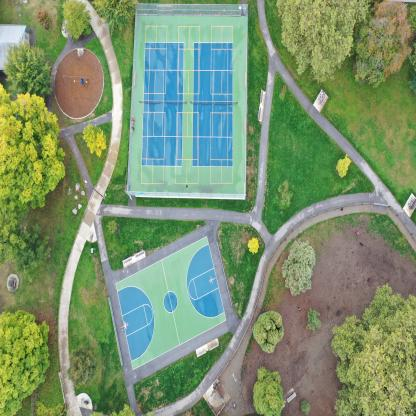Coniferous Tree: (352, 0, 412, 90), (5, 43, 53, 103), (7, 226, 52, 271), (283, 240, 314, 296), (65, 346, 100, 389), (94, 0, 137, 34), (252, 310, 284, 355), (60, 0, 95, 36), (35, 7, 50, 29), (306, 308, 320, 330), (280, 181, 293, 204), (107, 219, 117, 233), (301, 399, 311, 412)
Deciduous Tree: (333, 281, 416, 416), (0, 88, 63, 214), (276, 0, 354, 81), (0, 306, 49, 416), (253, 366, 284, 416), (82, 122, 107, 155), (336, 157, 352, 176), (247, 237, 259, 253)
